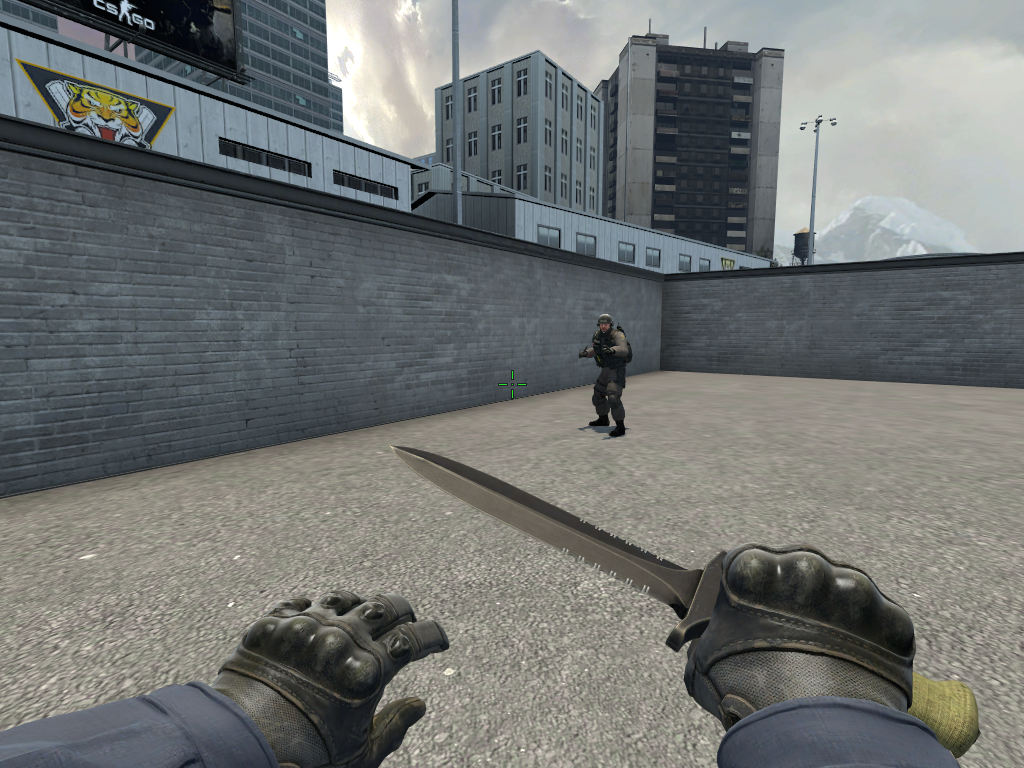ct head: (595, 313, 615, 334)
